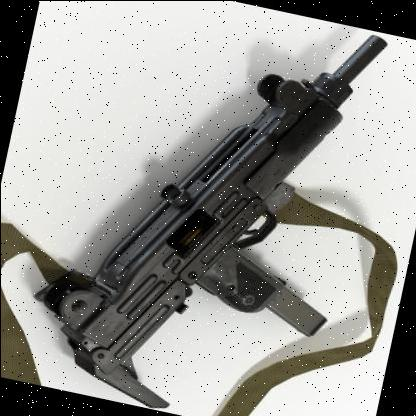rifle: (21, 0, 406, 416)
